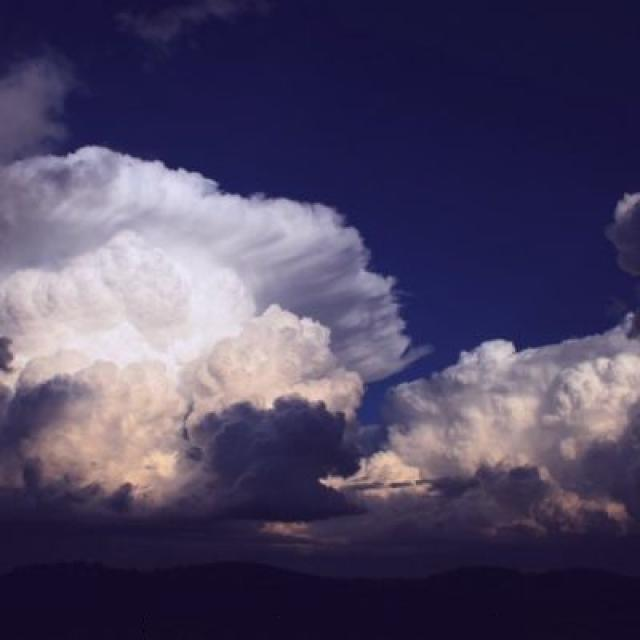Cb: (1, 72, 632, 534)
